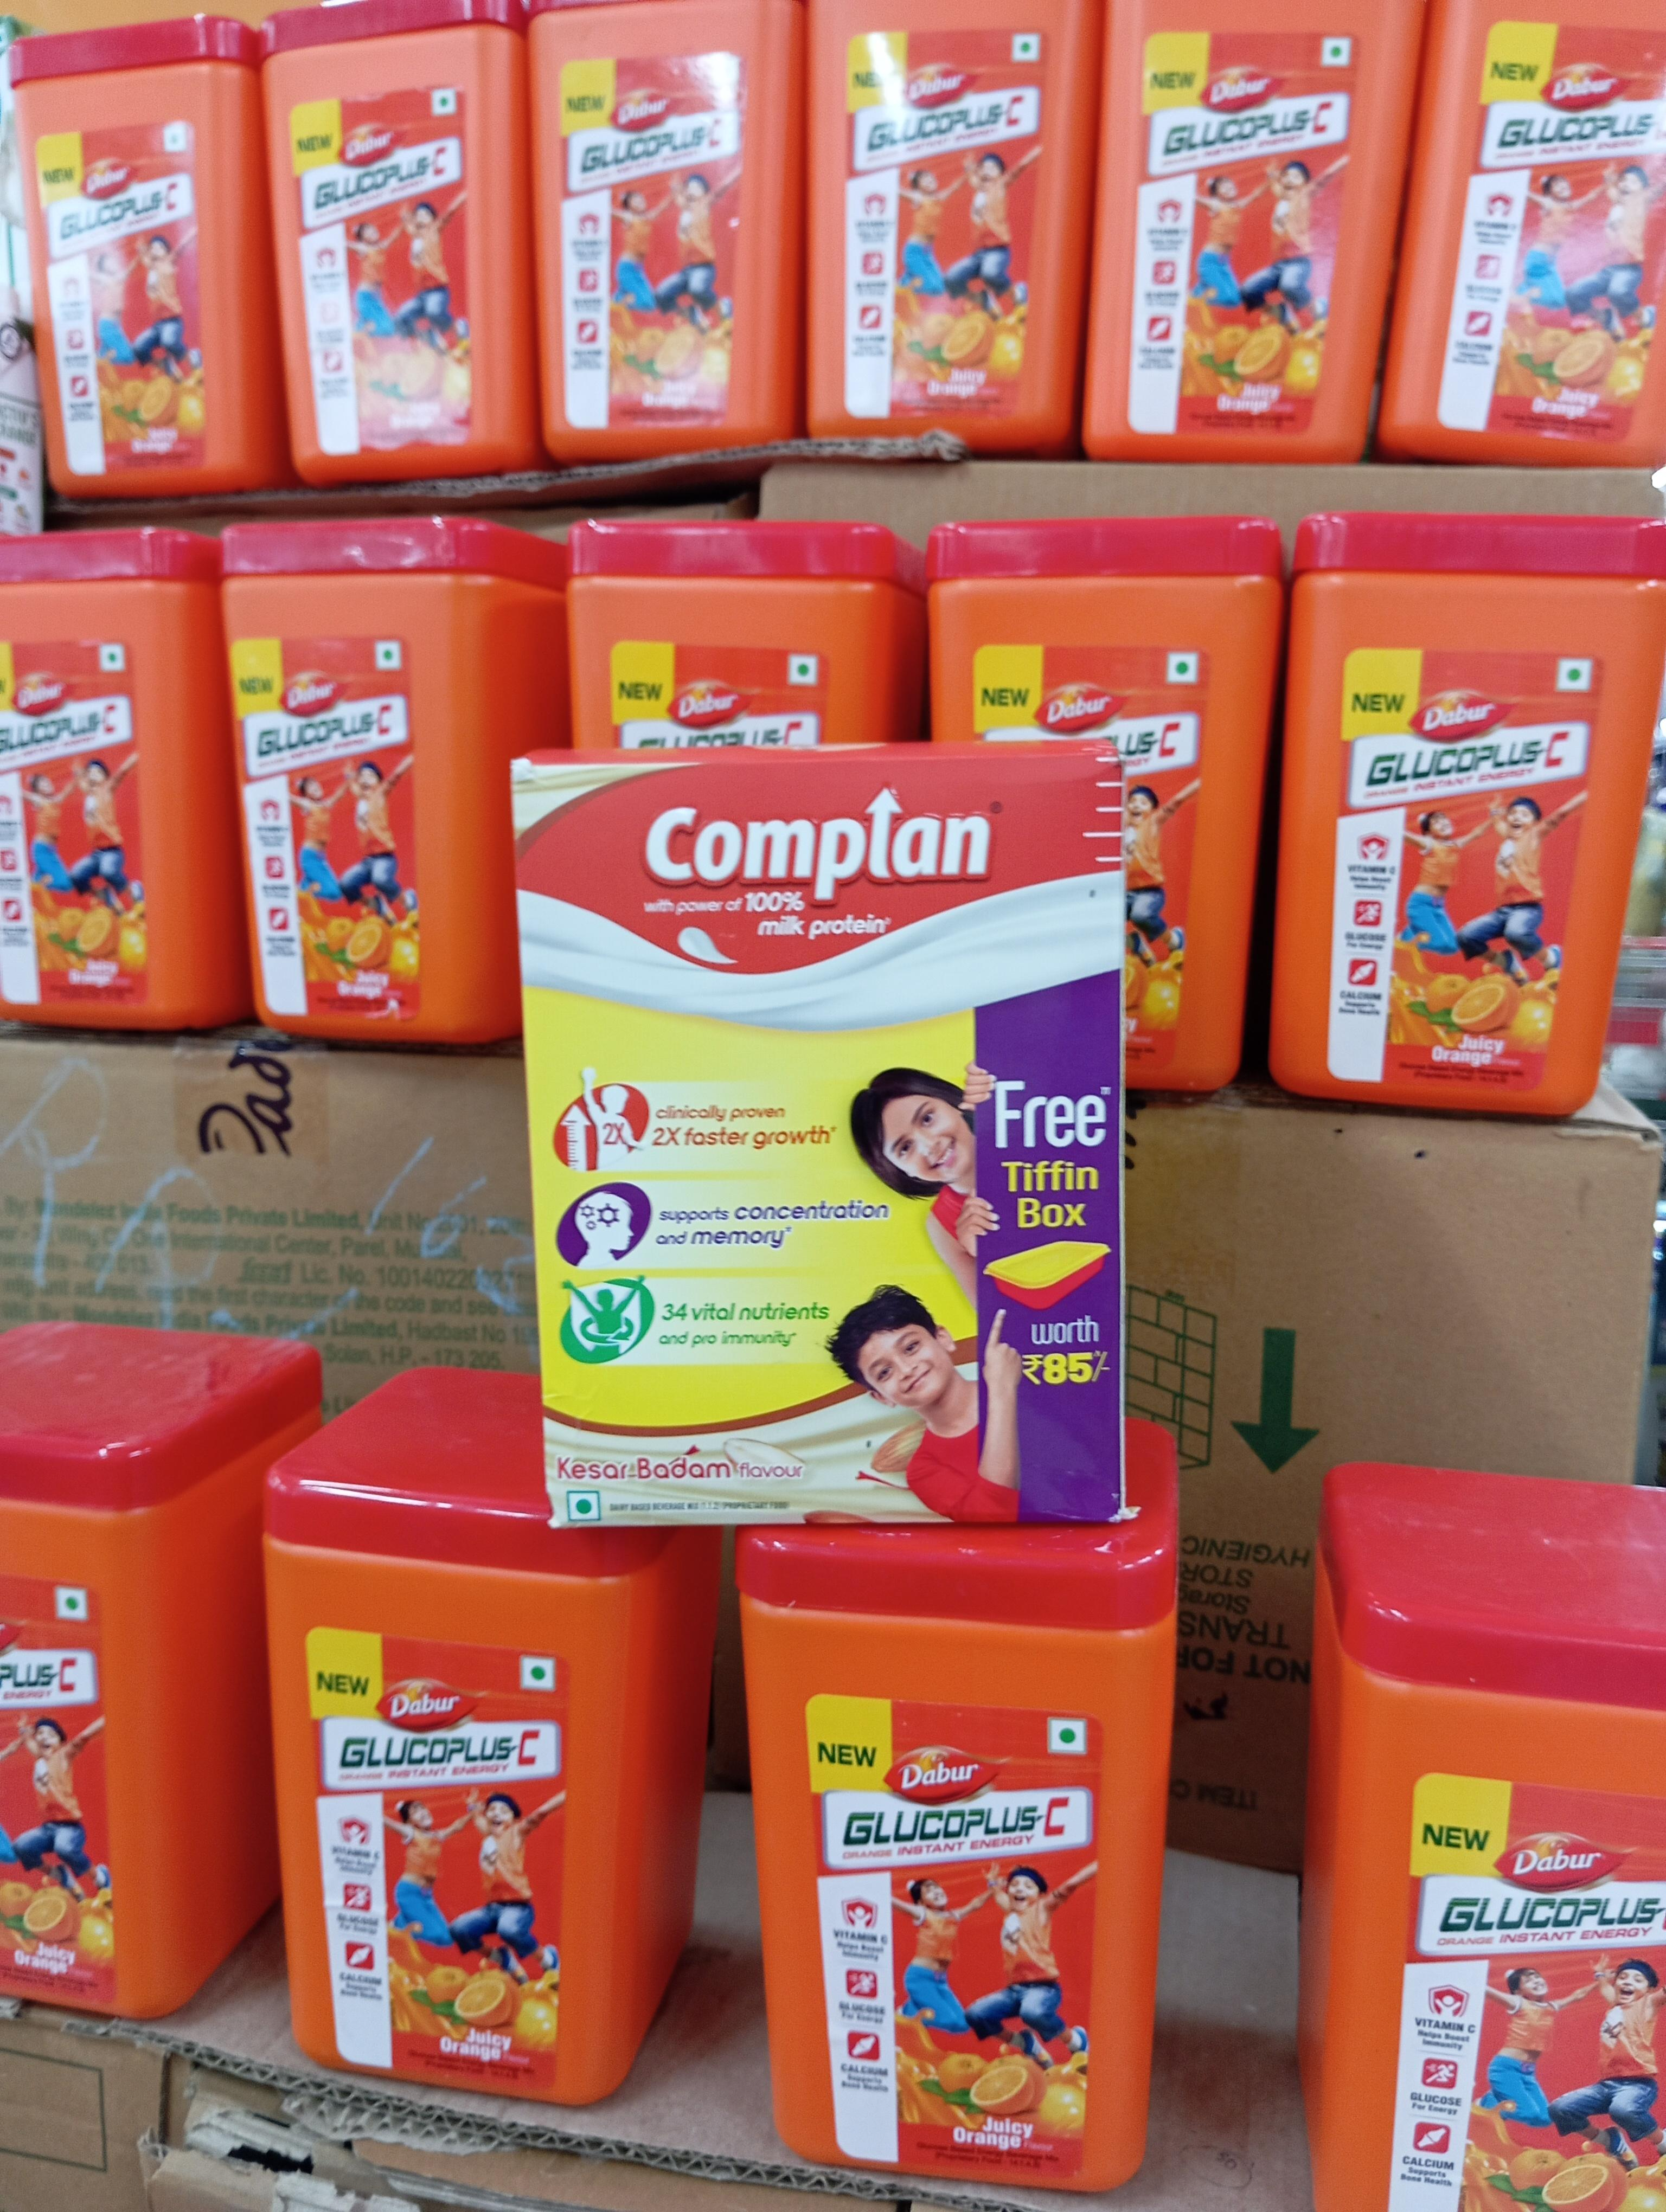COMPLAN_KESAR_BADAM_500_GMS_PACK: (515, 752, 1146, 1532)
